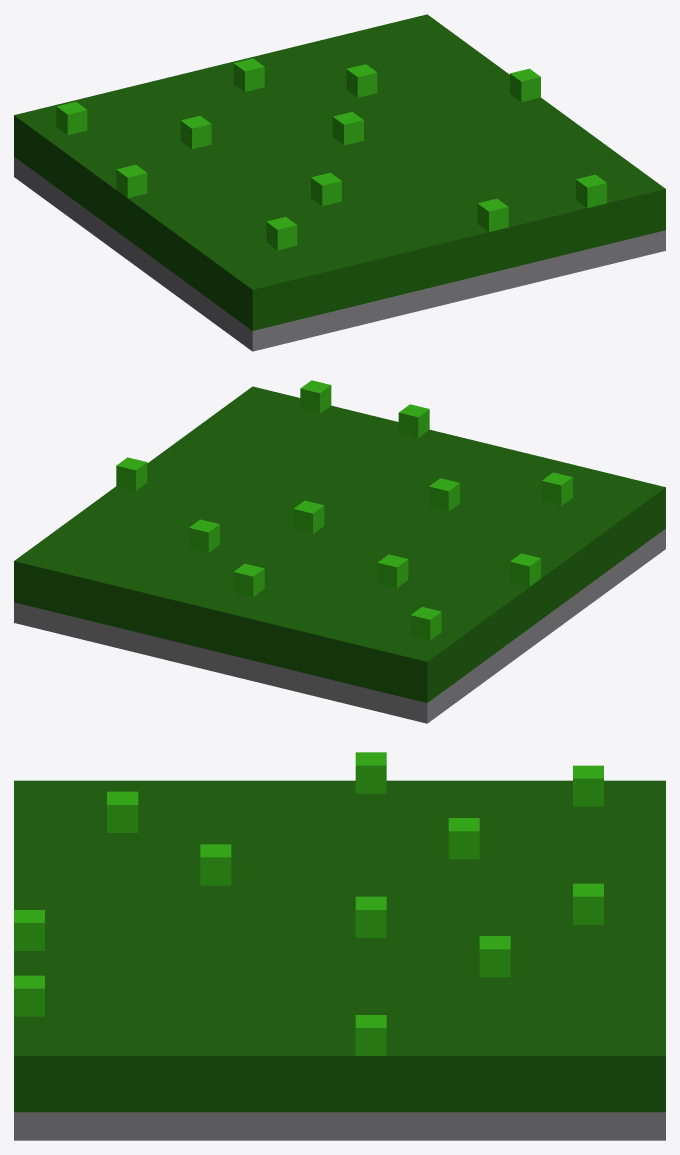
Rendered from grass3.obj.
3 renders of one model, top to bottom at view 1: azimuth 30°, elevation 25°; view 2: azimuth 150°, elevation 25°; view 3: azimuth 270°, elevation 25°, orthographic. The views are drawn at different scales.
Bounding box in the file's own units: 21 × 4 × 21.
Materials: 1 (1 with a texture image).
